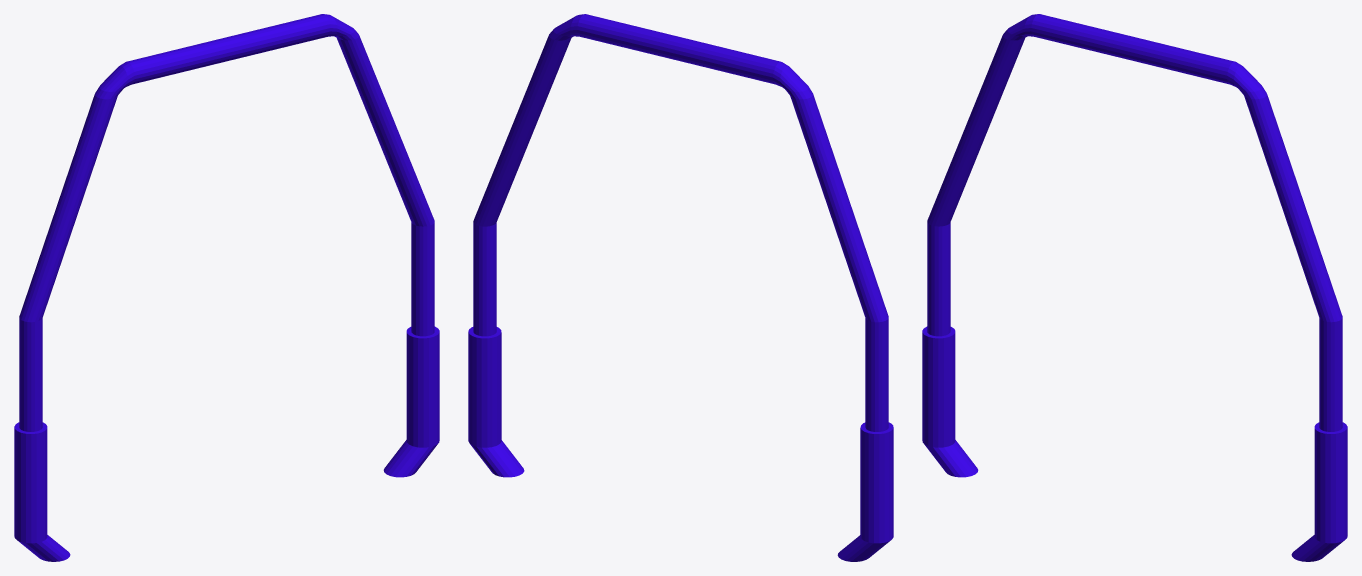
The model's file is hockeyTableSupports.fbx.
3 views of the same model, side by side, from view 1: azimuth 30°, elevation 25°; view 2: azimuth 150°, elevation 25°; view 3: azimuth 330°, elevation 25° (orthographic).
Visible parts, largest first — view 1: supports; view 2: supports; view 3: supports.
Part boxes in pixels (x1,y1,x2,y2): supports: (14,14,439,561); supports: (468,14,893,561); supports: (922,14,1347,561).
Size of the model in its own units: 370 by 398 by 25.14.
